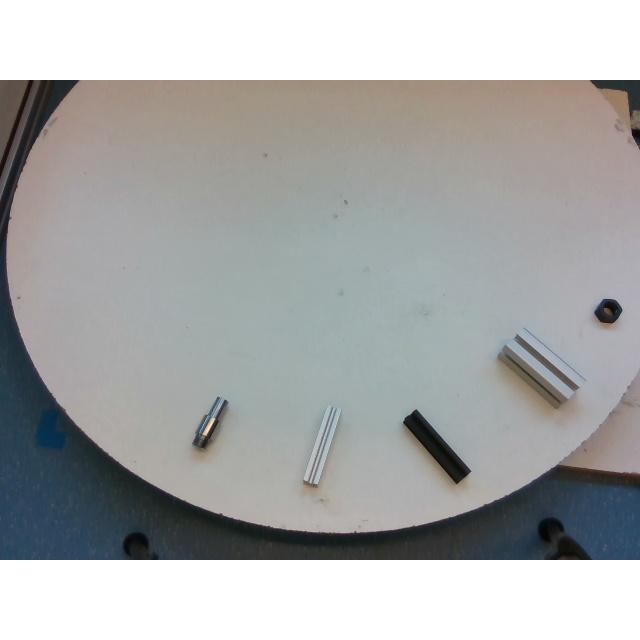Axis2: (192, 396, 226, 448)
F20_20_B: (402, 409, 474, 486)
F20_20_G: (302, 405, 338, 485)
M20: (594, 298, 622, 324)
S40_40_G: (499, 328, 585, 406)
